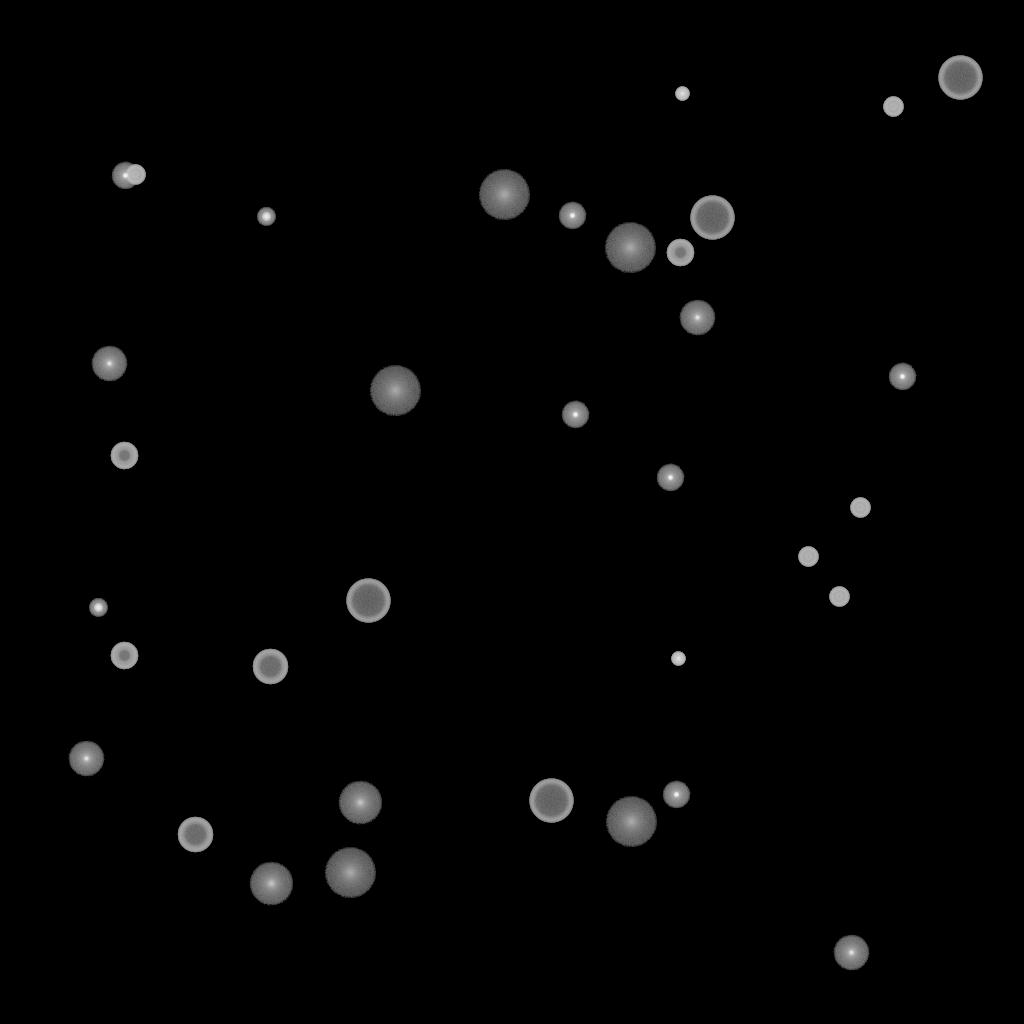depth:-10: (656, 464, 684, 492), (662, 781, 690, 809), (888, 363, 916, 391), (558, 202, 586, 230), (111, 162, 139, 190), (561, 401, 589, 429)
depth:-20: (89, 599, 107, 617), (257, 208, 275, 226)
depth:-30: (671, 652, 685, 666), (675, 87, 689, 101)
depth:-40: (850, 498, 870, 518), (829, 587, 849, 607), (883, 97, 903, 117), (125, 165, 145, 185), (798, 547, 818, 567)
depth:-50: (110, 442, 138, 470), (666, 239, 694, 267), (110, 642, 138, 670)
depth:-60: (177, 817, 213, 853), (252, 649, 288, 685)
depth:-70: (529, 779, 573, 823), (346, 579, 390, 623), (938, 56, 982, 100), (690, 196, 734, 240)
depth:0: (68, 741, 104, 777), (91, 346, 127, 382), (833, 935, 869, 971), (679, 300, 715, 336)
depth:10: (249, 862, 293, 906), (338, 781, 382, 825)
depth:20: (369, 366, 421, 416), (605, 797, 657, 847), (324, 848, 376, 898), (478, 170, 530, 220), (604, 223, 656, 273)
